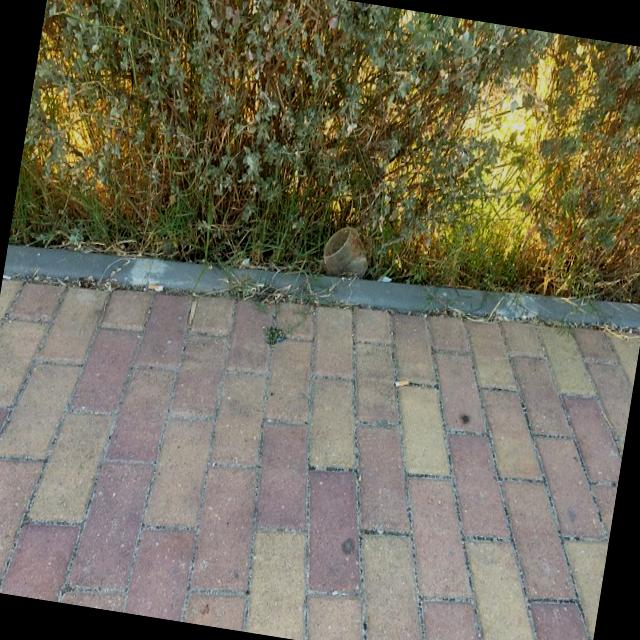Trash: (317, 219, 376, 284)
